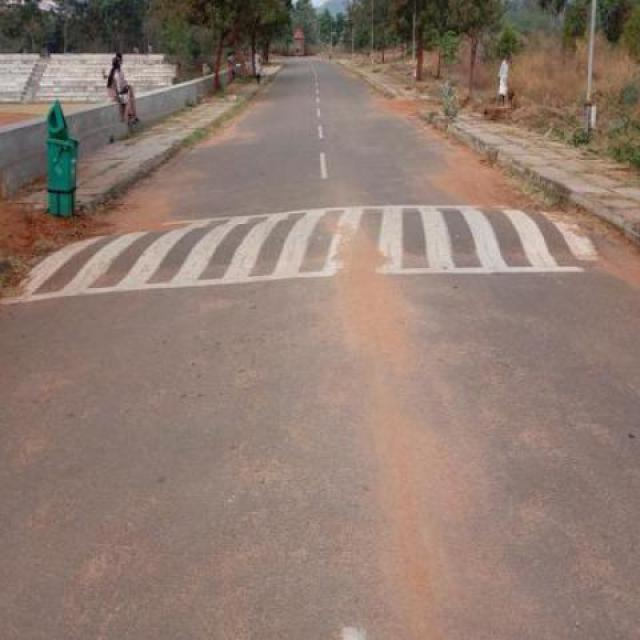Speed Bump: (12, 201, 603, 307)
